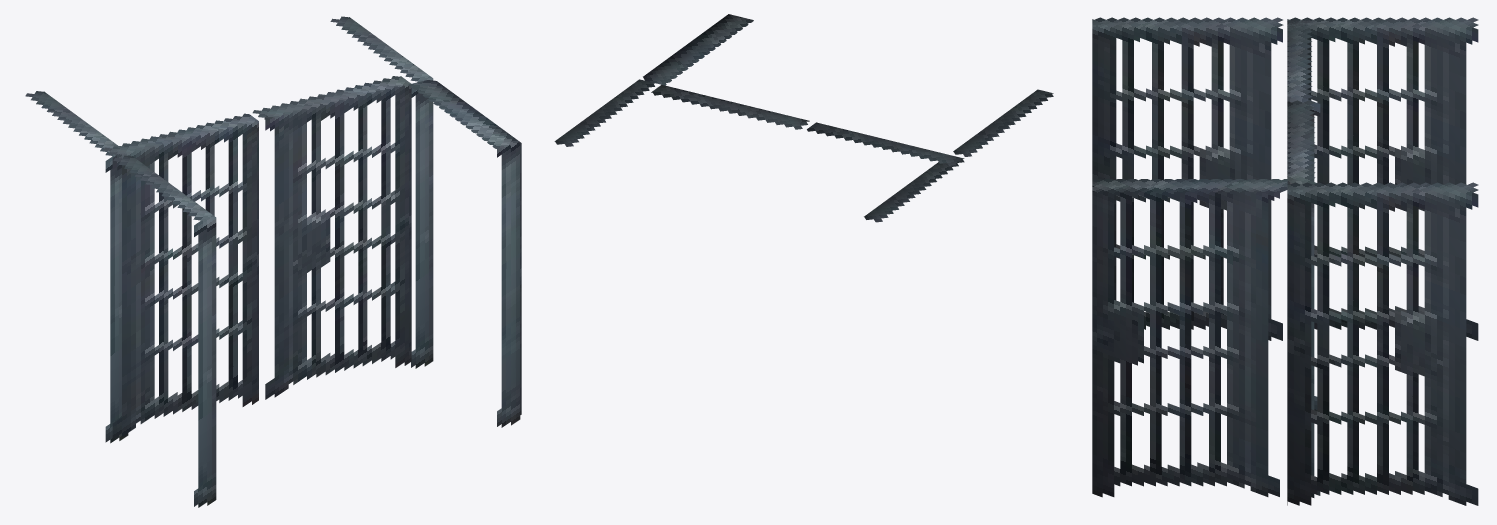
Rendered from BarredEntrance.glb.
The picture shows the model from 3 angles, left to right: view 1: azimuth 30°, elevation 25°; view 2: azimuth 150°, elevation 25°; view 3: azimuth 270°, elevation 25°; orthographic projection. The views are drawn at different scales.
Visible parts, largest first — view 1: right_1 (×2), left_1 (×2), right, left; view 2: right_1 (×2), left_1 (×2), right, left; view 3: right_1 (×2), right, left, left_1 (×2).
Part boxes in pixels (x1,y1,x2,y2): right_1 (×2): [252, 16, 433, 399]; left_1 (×2): [25, 91, 258, 443]; right: [408, 80, 521, 427]; left: [113, 155, 216, 507]; right_1 (×2): [554, 79, 809, 146]; left_1 (×2): [807, 122, 964, 222]; right: [643, 14, 753, 85]; left: [953, 89, 1053, 156]; right_1 (×2): [1287, 100, 1478, 505]; right: [1092, 179, 1287, 497]; left: [1092, 17, 1283, 340]; left_1 (×2): [1287, 17, 1478, 410].
Size of the model in its own units: 2.17 by 1.8 by 2.
Materials: 1 (1 with a texture image).
